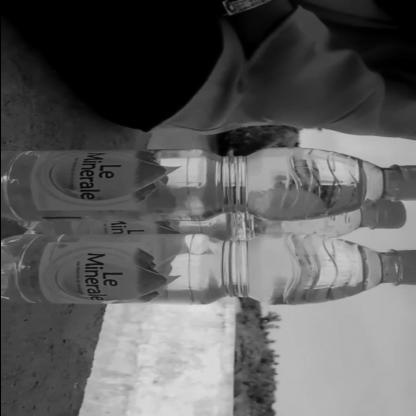plastic_bottles: (0, 155, 416, 309)
